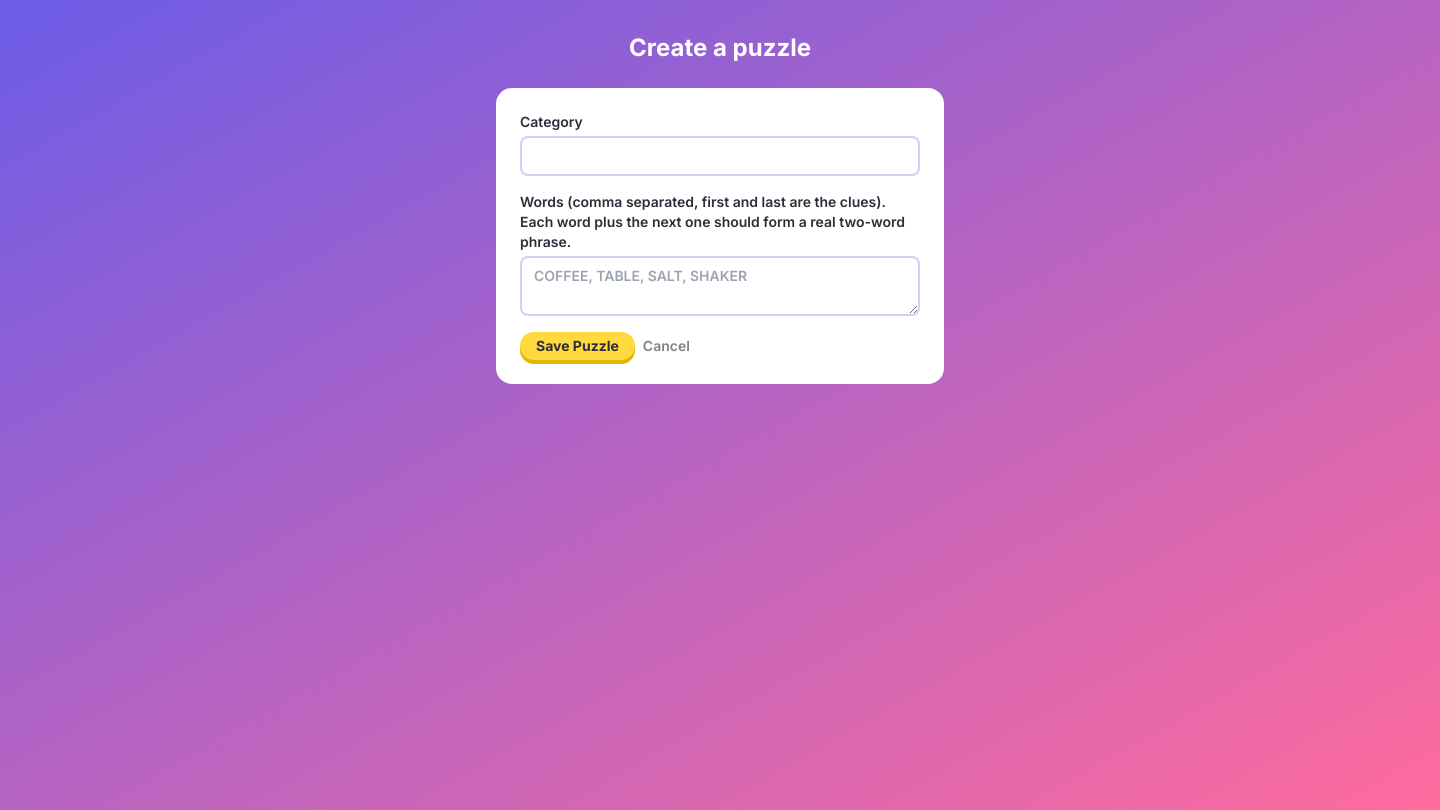
Test: CustomPuzzleCreatorPage › shows a validation error instead of saving an invalid chain
Type "My Category" into the field labelled "Category" at (720, 156), box 520,136 -> 920,176
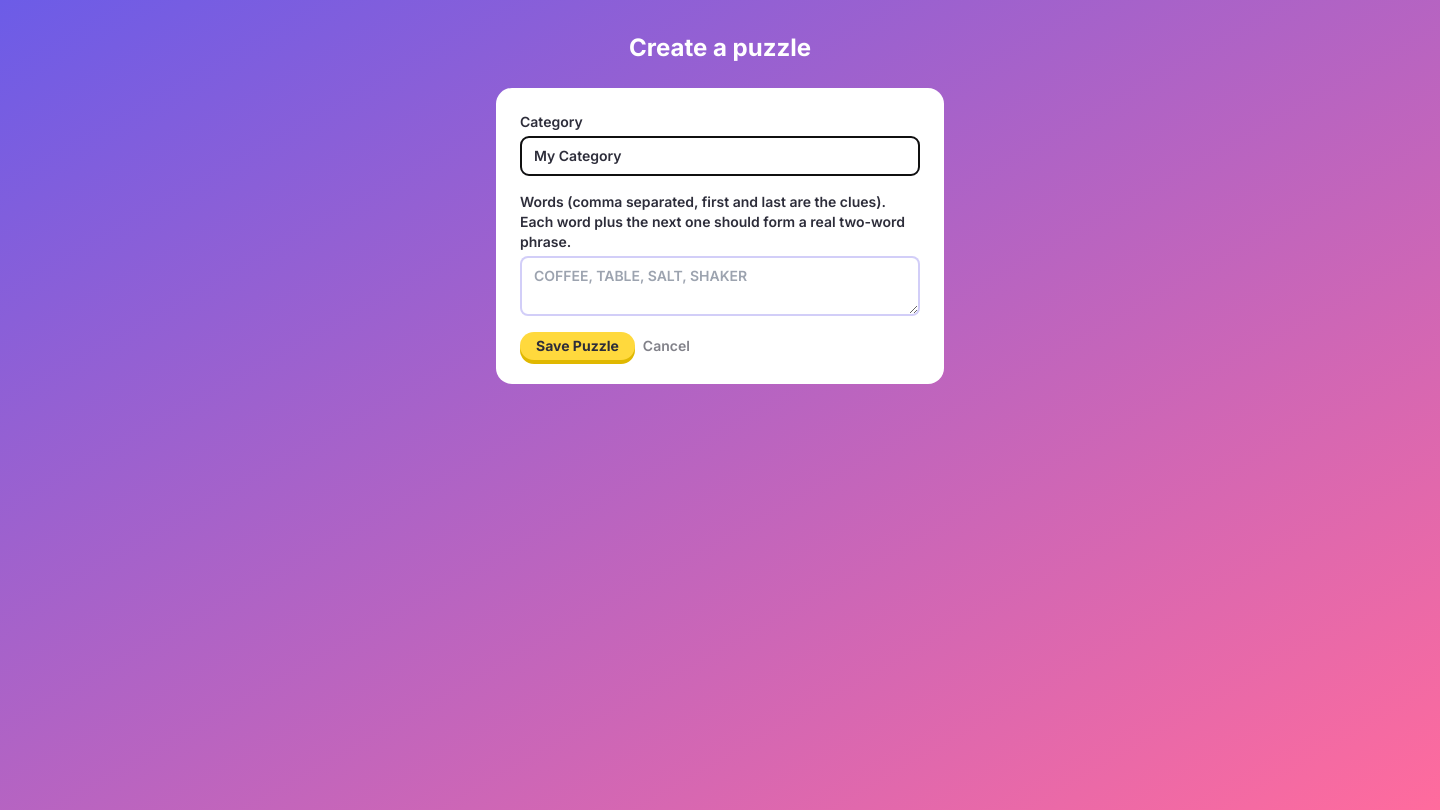
Type "HOT, HOT, KICK" into the text box labelled "Words" at (720, 286), box 520,256 -> 920,316
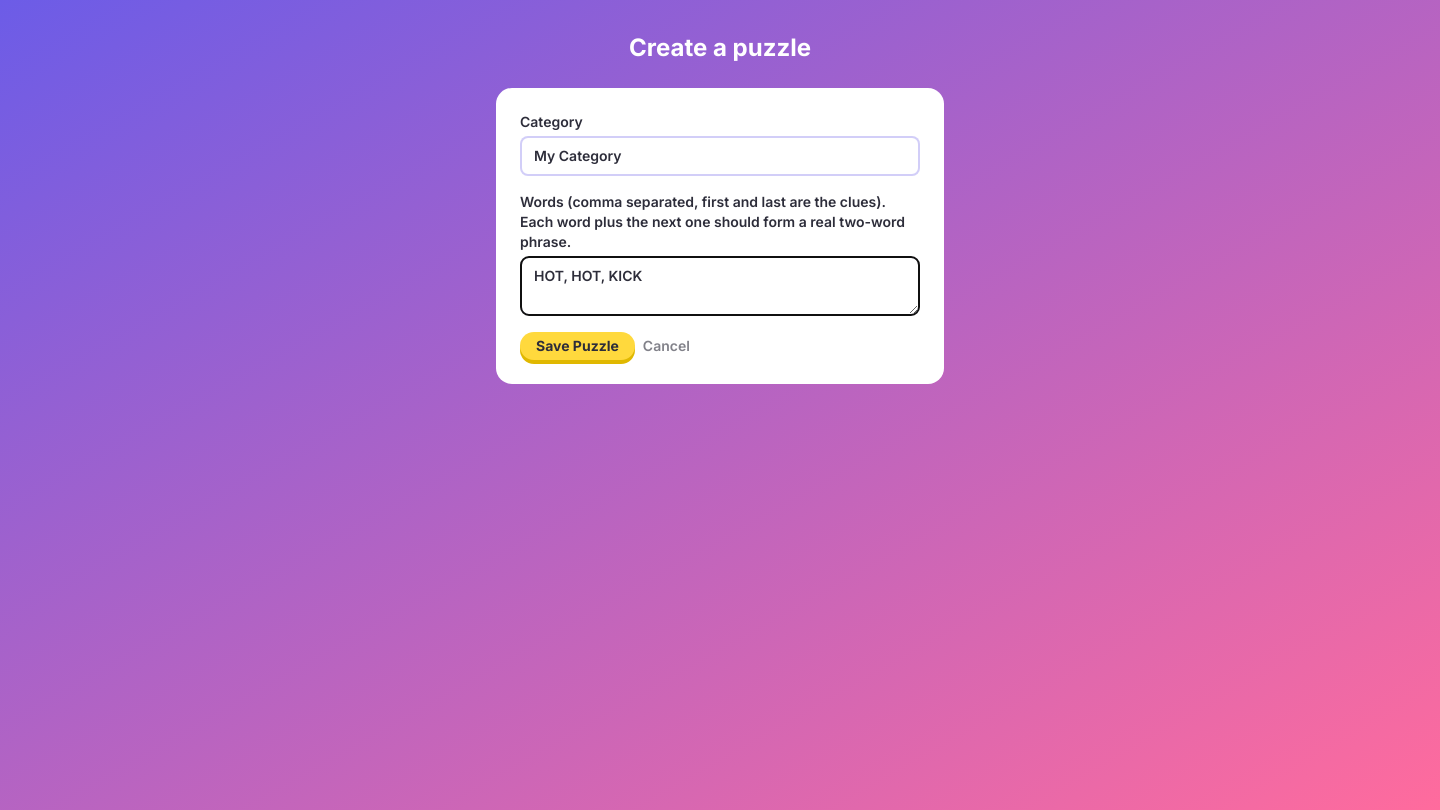
Click the button "Save Puzzle" at (577, 346), box 520,332 -> 635,360
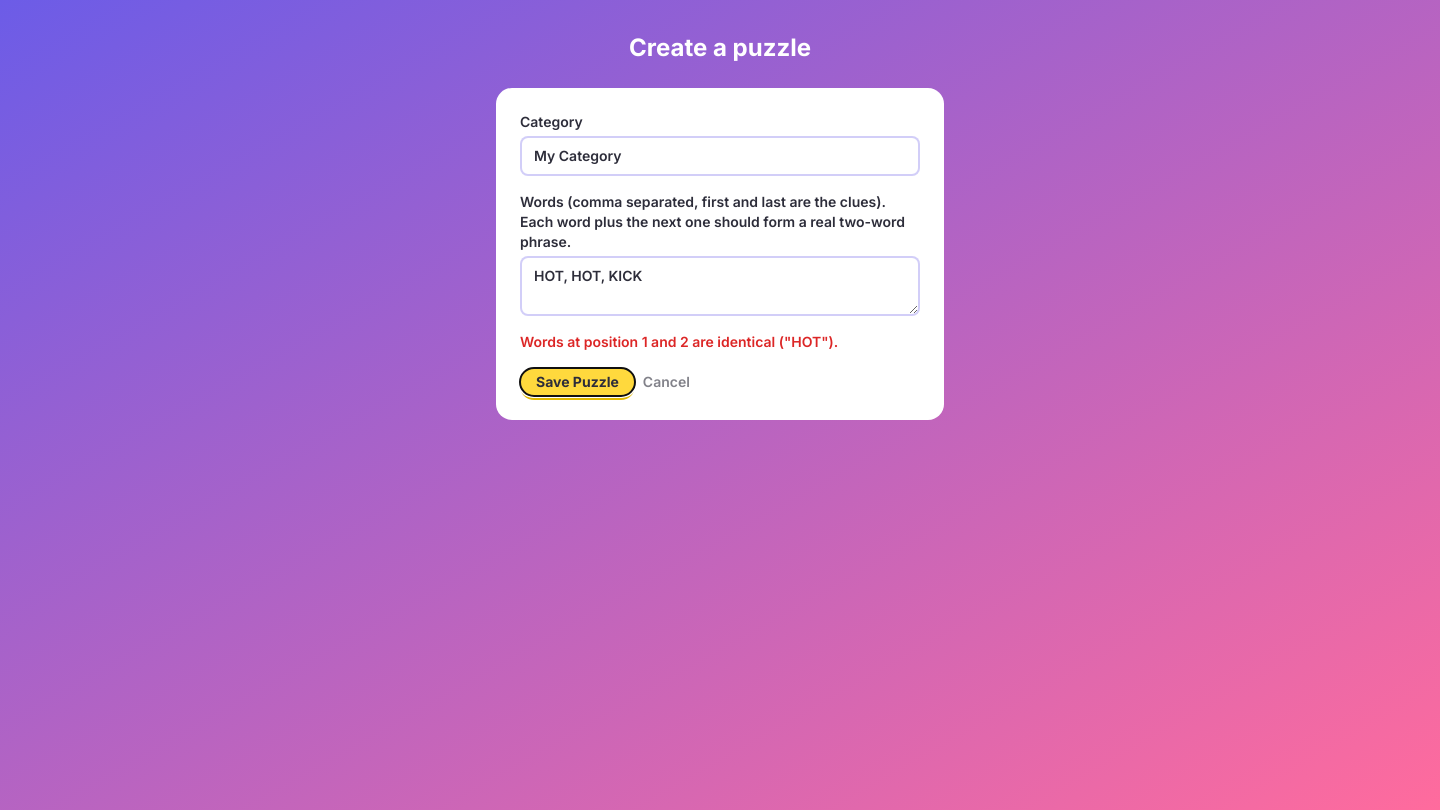
Now the text "Words at position 1 and 2 are identical (\"HOT\")." is shown, box 520,333 -> 838,350
